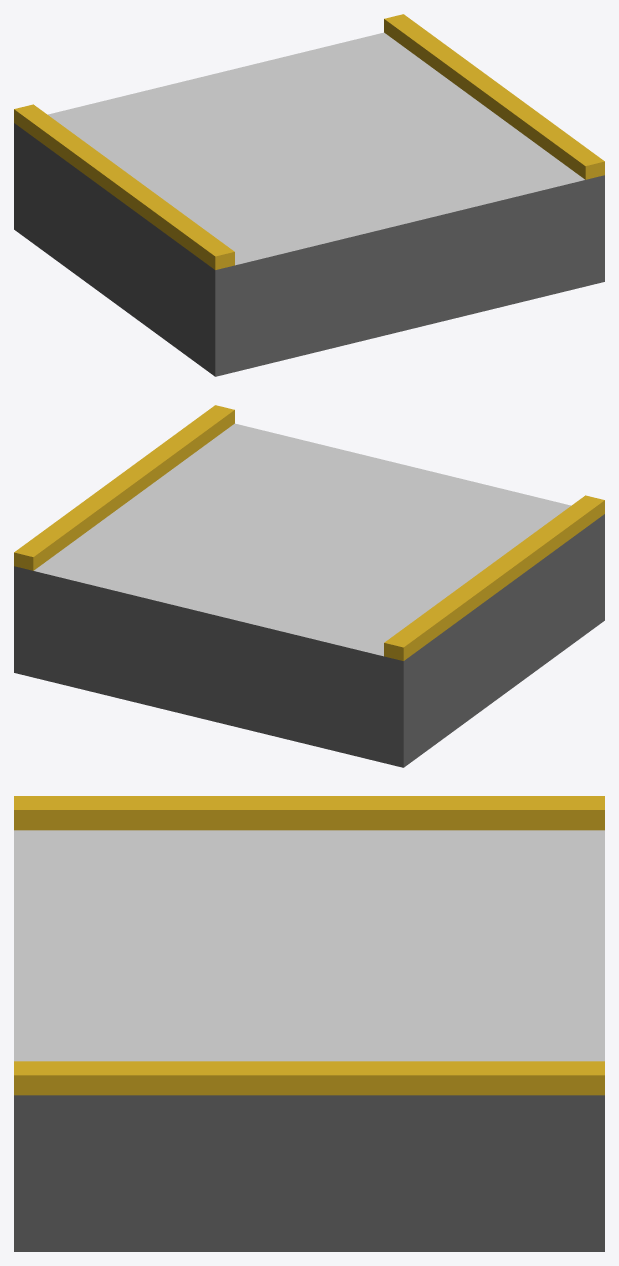
Rendered from Platform_Straight.fbx.
3 renders of one model, top to bottom at view 1: azimuth 30°, elevation 25°; view 2: azimuth 150°, elevation 25°; view 3: azimuth 270°, elevation 25°, orthographic. The views are drawn at different scales.
Parts seen in each view (by area): view 1: Platform_Straight; view 2: Platform_Straight; view 3: Platform_Straight.
Part boxes in pixels (x1,y1,x2,y2): Platform_Straight: (14,14,604,376); Platform_Straight: (14,405,604,767); Platform_Straight: (14,796,604,1251).
Size of the model in its own units: 1192 by 352 by 1067.
